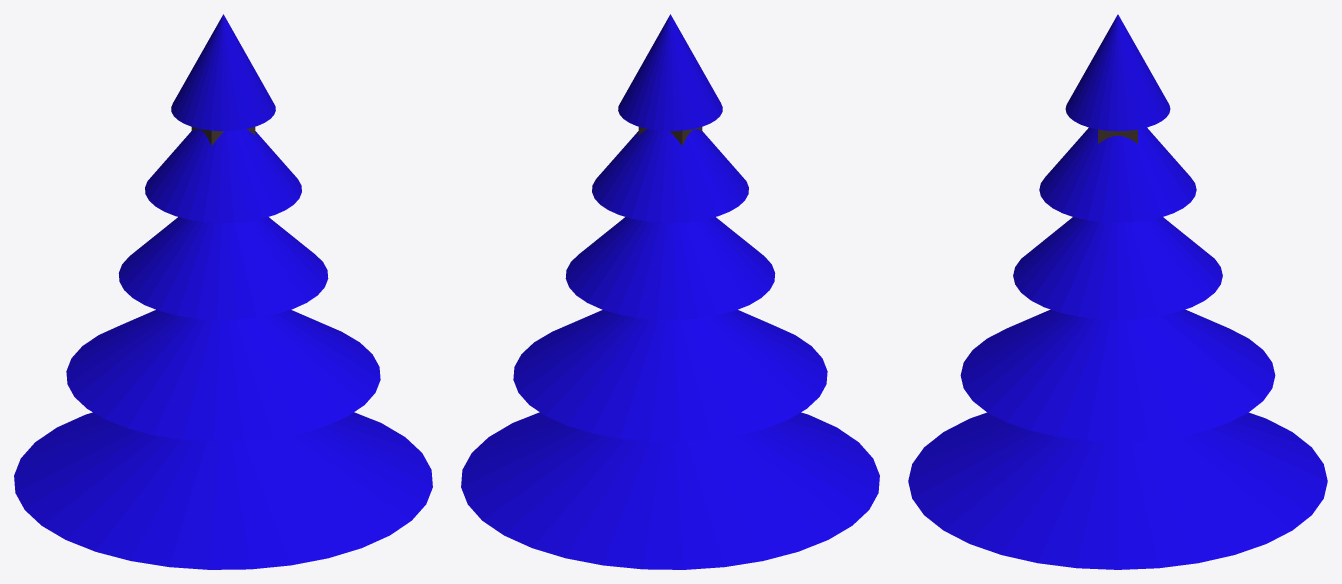
Rendered from Tree_blue.fbx.
3 renders of one model, left to right at view 1: azimuth 30°, elevation 25°; view 2: azimuth 150°, elevation 25°; view 3: azimuth 270°, elevation 25°, orthographic.
Visible parts, largest first — view 1: Tree blue; view 2: Tree blue; view 3: Tree blue.
Part boxes in pixels (x1,y1,x2,y2): Tree blue: (14,14,432,569); Tree blue: (461,14,879,569); Tree blue: (908,14,1327,569).
Size of the model in its own units: 800 by 1098 by 800.
